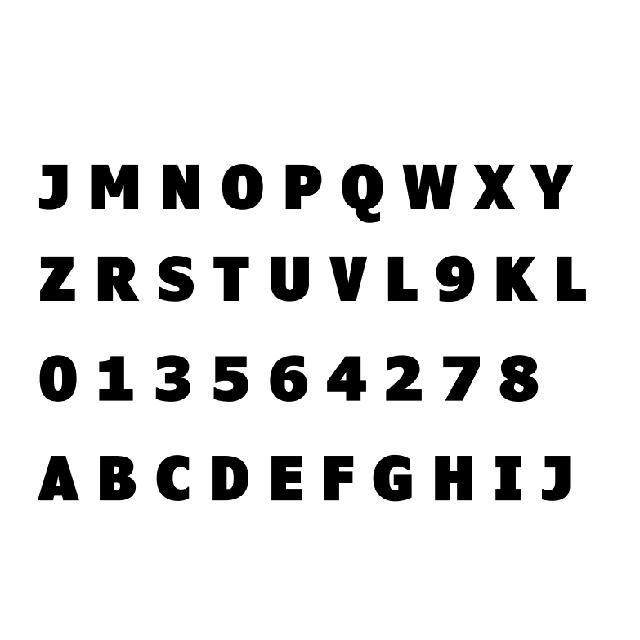0: (37, 352, 77, 403)
1: (94, 346, 133, 401)
2: (382, 351, 424, 406)
3: (150, 348, 192, 403)
4: (326, 353, 372, 408)
5: (208, 350, 248, 404)
6: (268, 348, 308, 403)
7: (442, 348, 482, 407)
8: (492, 348, 546, 404)
9: (432, 248, 478, 304)
A: (36, 449, 82, 513)
B: (96, 452, 136, 507)
C: (150, 452, 193, 498)
D: (209, 450, 250, 508)
E: (264, 452, 306, 503)
F: (322, 448, 358, 508)
G: (371, 454, 416, 506)
H: (429, 452, 473, 508)
I: (486, 447, 530, 507)
J: (28, 154, 74, 216), (536, 452, 578, 506)
K: (493, 248, 538, 308)
L: (387, 250, 421, 306), (553, 253, 587, 307)
M: (91, 156, 144, 214)
N: (158, 160, 203, 211)
O: (218, 157, 267, 215)
P: (281, 162, 321, 219)
Q: (336, 166, 386, 224)
R: (92, 253, 138, 307)
S: (156, 249, 196, 308)
T: (210, 248, 250, 306)
U: (268, 250, 311, 305)
V: (324, 252, 366, 308)
W: (402, 158, 458, 215)
X: (472, 160, 516, 214)
Y: (527, 161, 575, 212)
Z: (33, 250, 76, 303)
